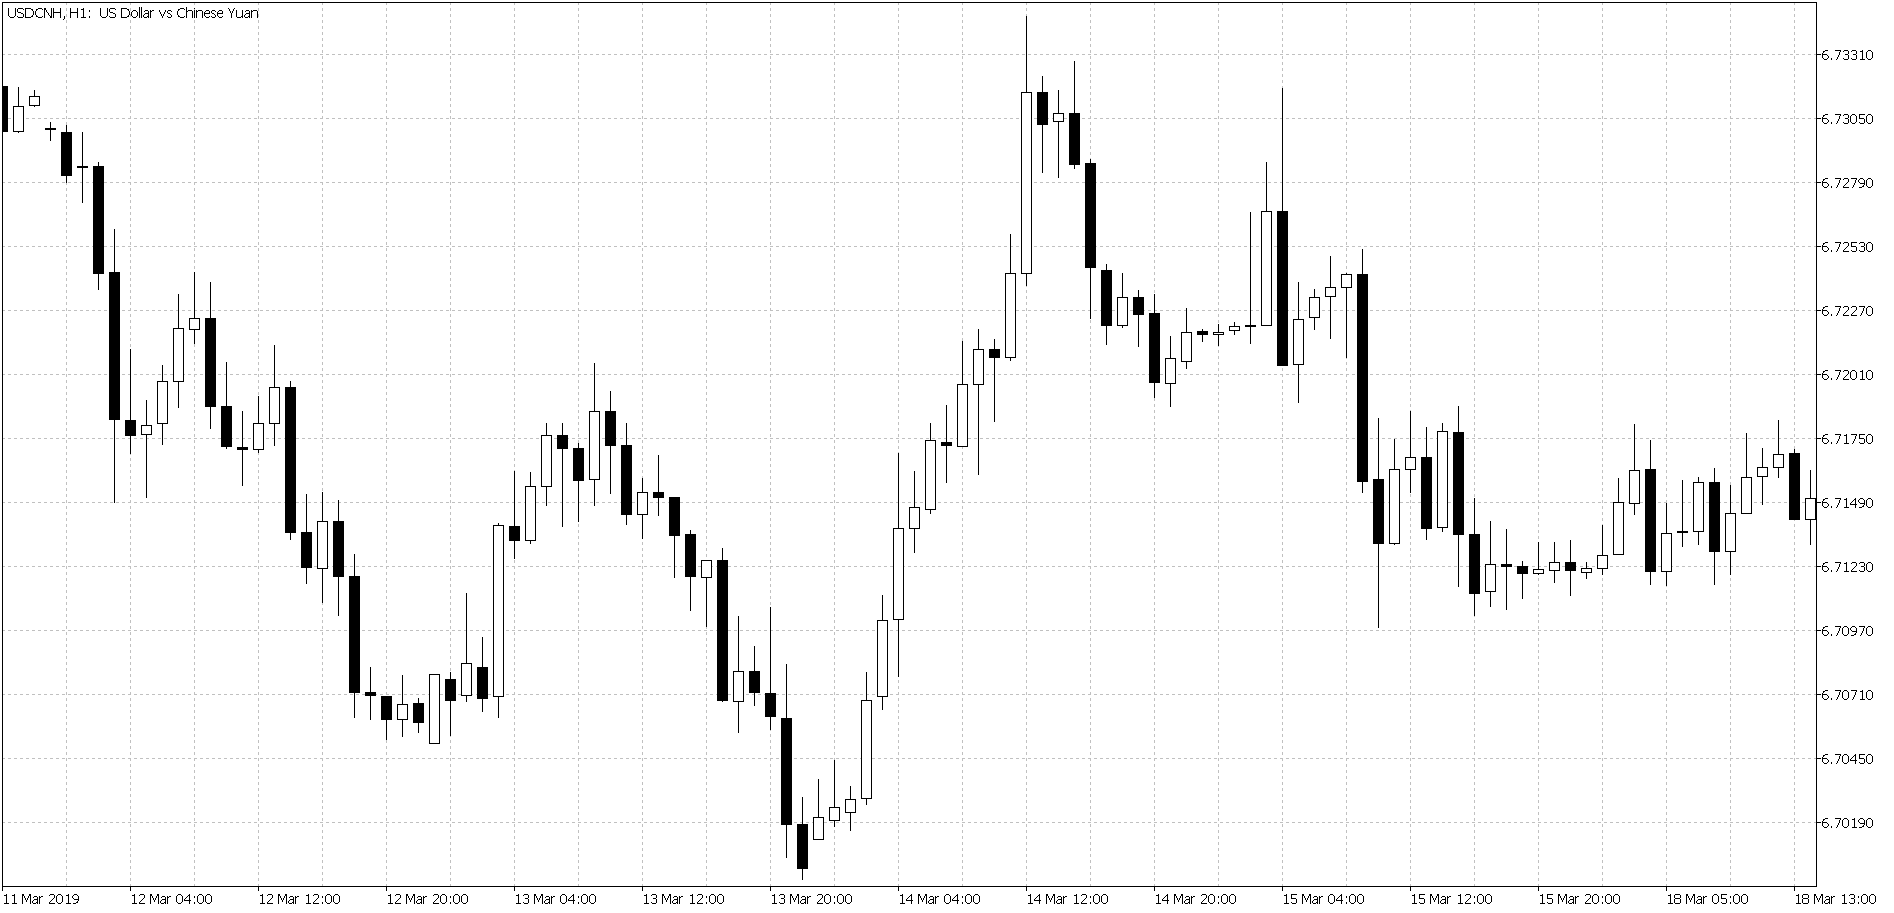3whitesoldiers: (812, 762, 856, 845)
bullishEngulfing: (412, 663, 442, 763)
eveningStar: (172, 277, 217, 430)
morningDojiStar: (219, 364, 265, 495)
